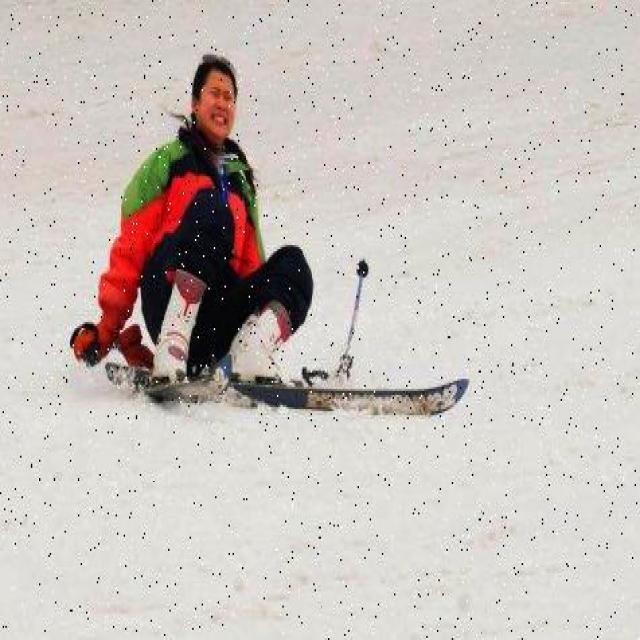fall: (109, 44, 304, 377)
